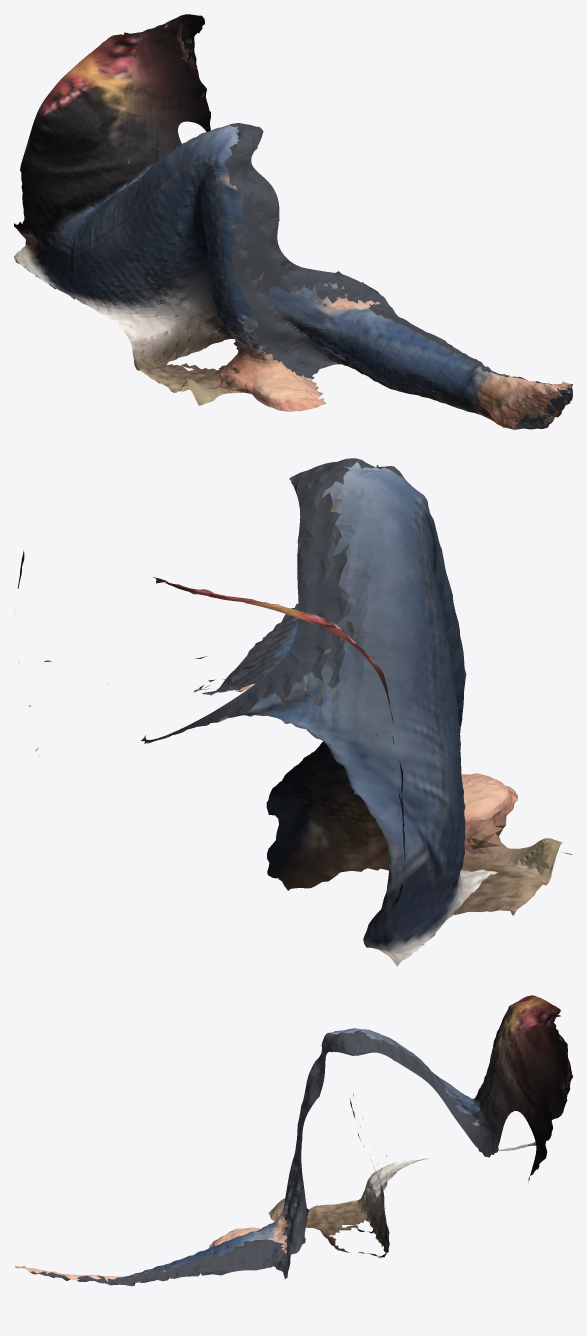
3 renders of one model, top to bottom at view 1: azimuth 30°, elevation 25°; view 2: azimuth 150°, elevation 25°; view 3: azimuth 270°, elevation 25°, orthographic. The views are drawn at different scales.
Size of the model in its own units: 0.5858 by 0.4777 by 1.04.
Materials: 1 (1 with a texture image).
